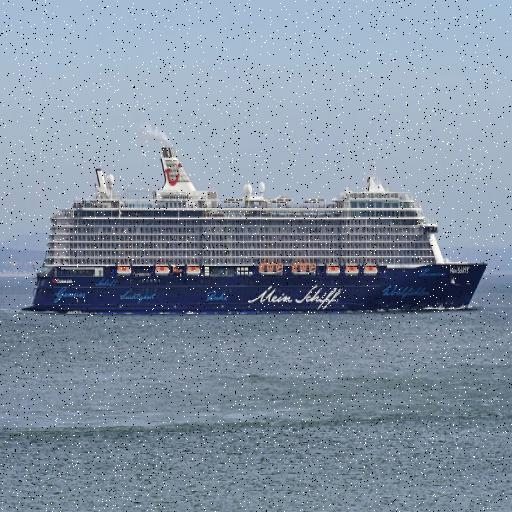cruises: (17, 141, 491, 320)
